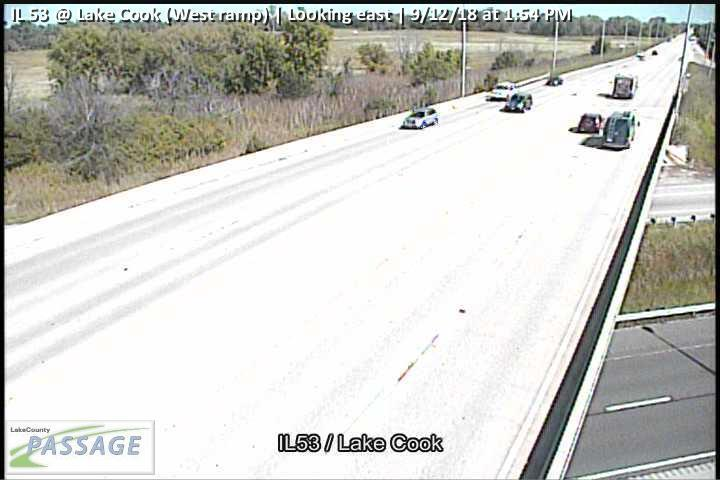SUV: (602, 111, 640, 152), (505, 91, 534, 112)
Sedan: (403, 107, 440, 130), (491, 81, 519, 99), (578, 114, 604, 133)
Truck: (611, 73, 638, 99)
